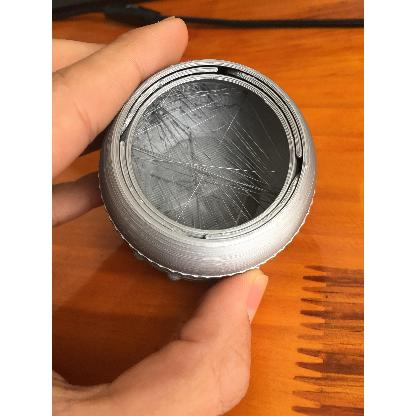fail: (139, 90, 275, 212)
